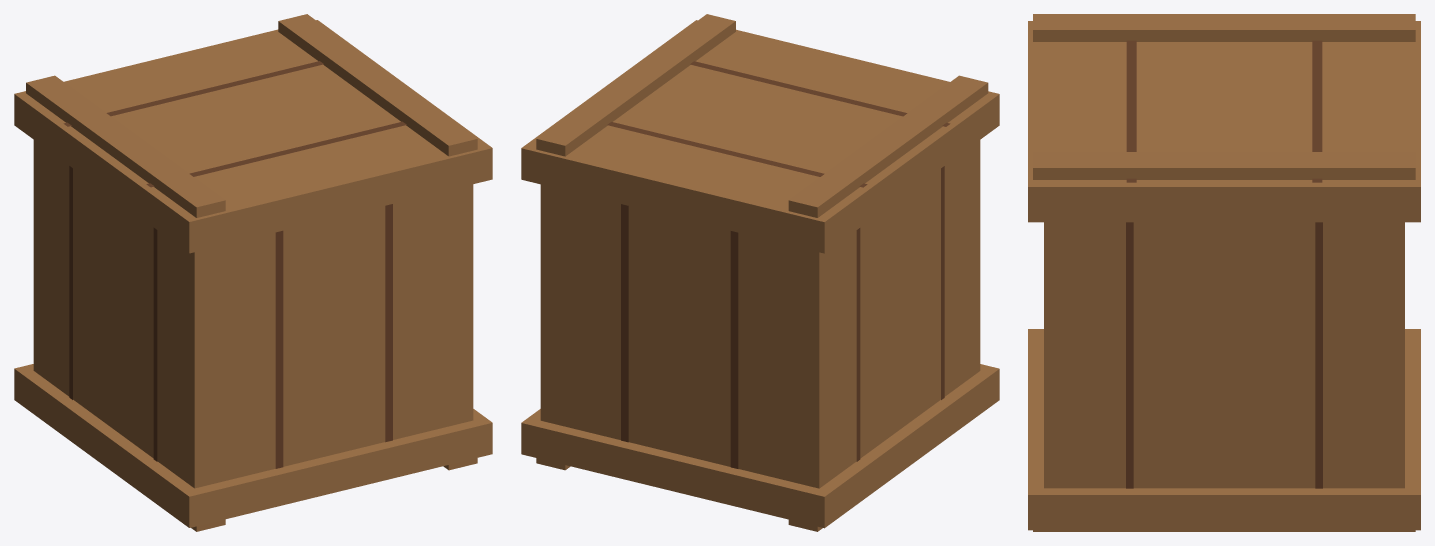
Rendered from Crate.glb.
3 renders of one model, left to right at view 1: azimuth 30°, elevation 25°; view 2: azimuth 150°, elevation 25°; view 3: azimuth 270°, elevation 25°, orthographic. The views are drawn at different scales.
Visible parts, largest first — view 1: Crate2; view 2: Crate2; view 3: Crate2.
Part boxes in pixels (left/top/right/bottom): Crate2: left=14, top=14, right=492, bottom=531; Crate2: left=521, top=14, right=999, bottom=531; Crate2: left=1028, top=14, right=1420, bottom=531.
Bounding box in the file's own units: 1.09 × 1.11 × 1.09.
1 material, 1 textured.
